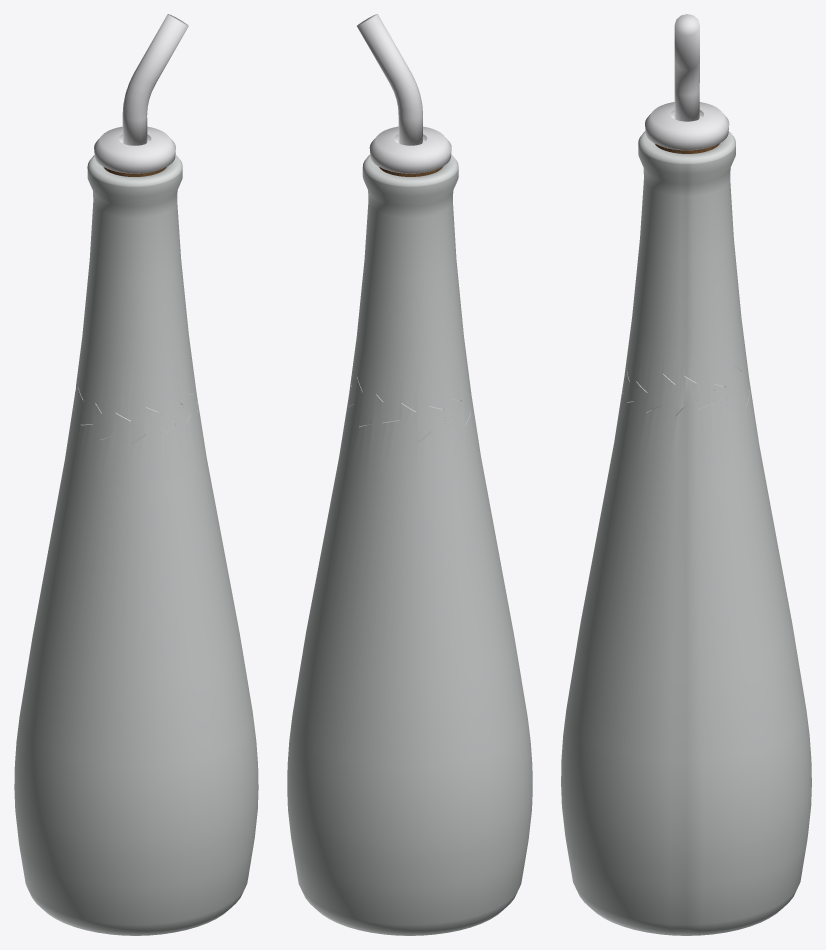
The model's file is bottle_cruet_broken.glb.
The picture shows the model from 3 angles, left to right: view 1: azimuth 30°, elevation 25°; view 2: azimuth 150°, elevation 25°; view 3: azimuth 270°, elevation 25°; orthographic projection. The views are drawn at different scales.
Parts seen in each view (by area): view 1: Glass.001, Neck, Cap; view 2: Glass.001, Neck, Cap; view 3: Glass.001, Neck, Cap.
Boxes of the visible parts, x1,y1,x2,y2 form: Glass.001: (14, 387, 258, 935); Neck: (73, 154, 197, 443); Cap: (94, 14, 188, 176); Glass.001: (287, 377, 532, 935); Neck: (349, 154, 474, 441); Cap: (357, 14, 451, 176); Glass.001: (561, 361, 811, 935); Neck: (622, 131, 749, 415); Cap: (645, 14, 729, 153).
Size of the model in its own units: 0.066 by 0.2588 by 0.0655.
Materials: 5 (1 with a texture image).
